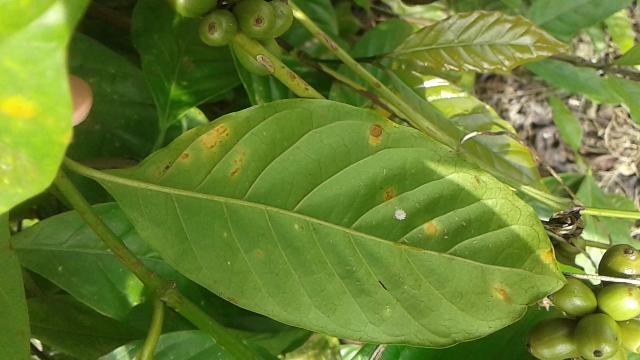rust_level_2: (100, 93, 576, 352)
